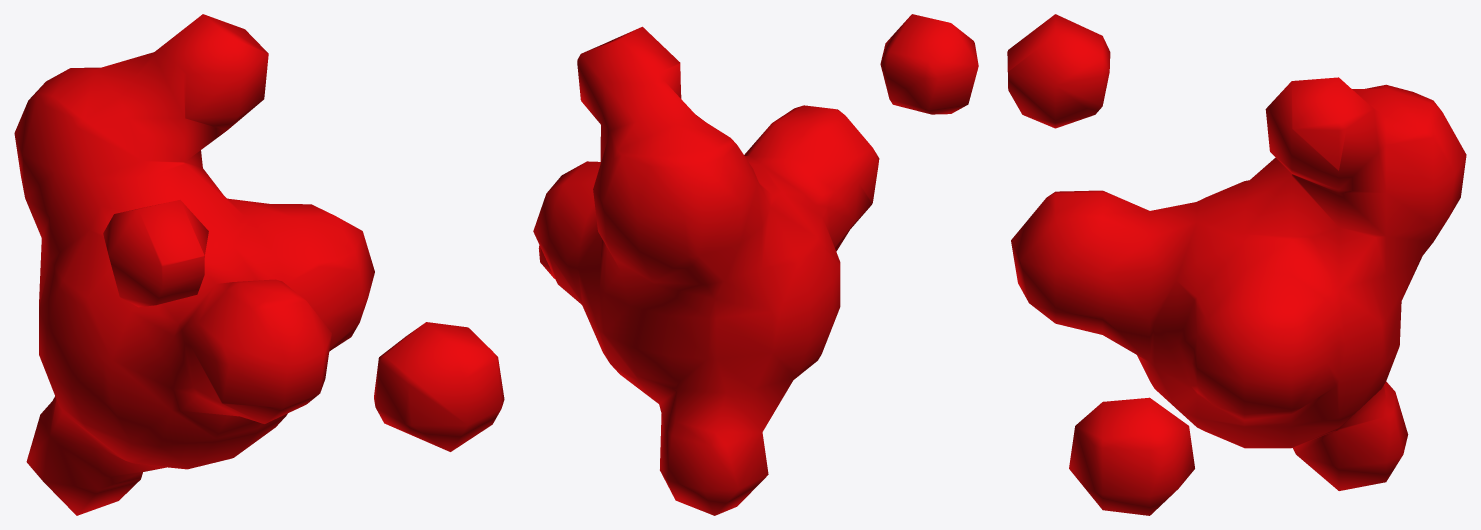
File: blob2.glb
3 renders of one model, left to right at view 1: azimuth 30°, elevation 25°; view 2: azimuth 150°, elevation 25°; view 3: azimuth 270°, elevation 25°, orthographic. The views are drawn at different scales.
Parts seen in each view (by area): view 1: Mball.008; view 2: Mball.008; view 3: Mball.008.
Boxes of the visible parts, left/top/right/bottom form: Mball.008: left=14, top=14, right=504, bottom=515; Mball.008: left=533, top=14, right=978, bottom=515; Mball.008: left=1007, top=14, right=1466, bottom=515.
Bounding box in the file's own units: 10.38 × 11.01 × 9.99.
